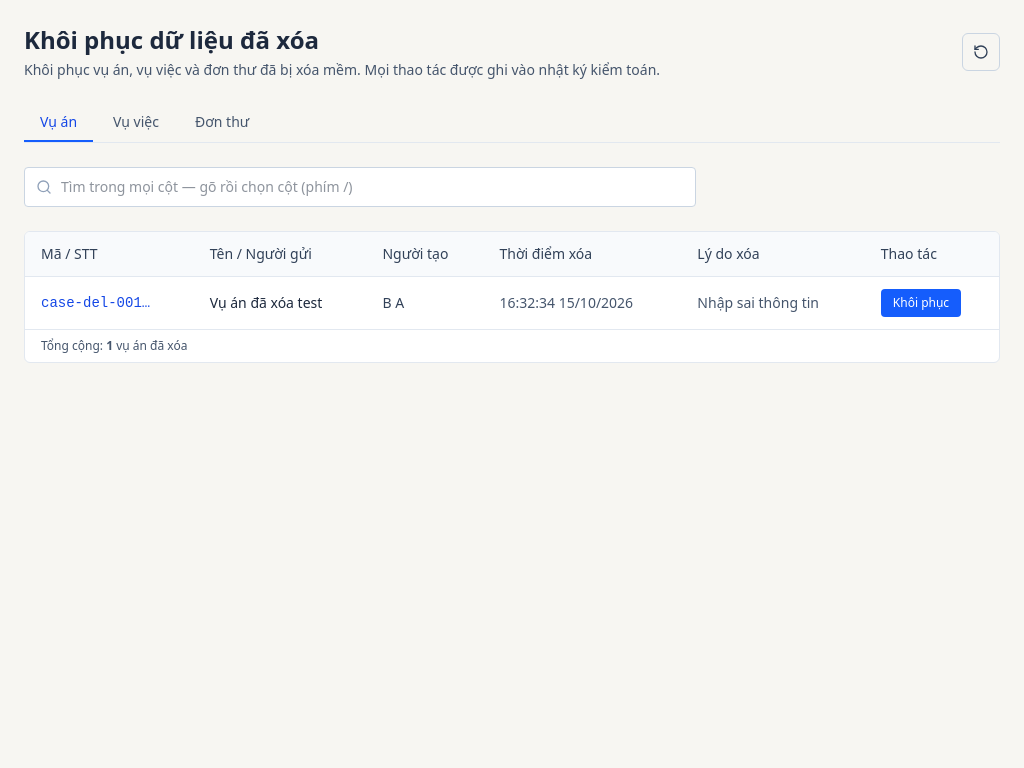
RestorePage v0.32.0.0 › FE-R3: restore success → row disappears + success banner
Expected: the text "Vụ án đã xóa test" is shown, [194,276,366,329]
Click the button with test id "btn-restore-case-del-001". click: (921, 303)
box: [881,289,961,317]
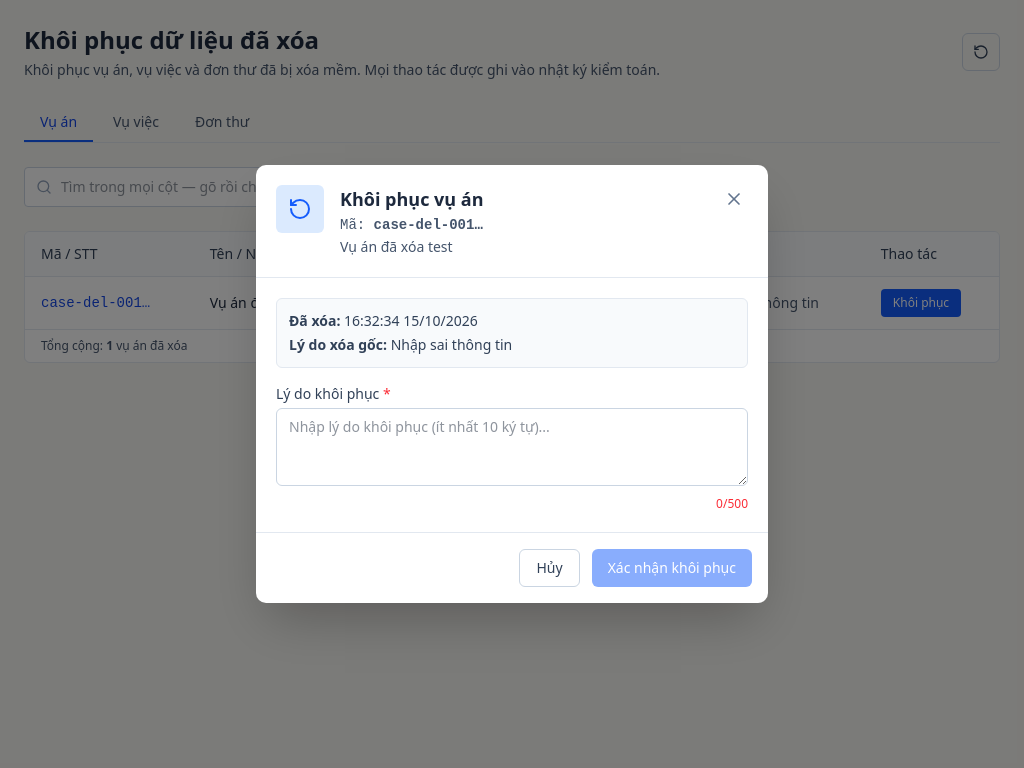
Expected: the dialog with test id "restore-modal" is shown
Type "Khôi phục theo yêu cầu thủ trưởng" into the text box with test id "restore-reason-input". click: (512, 447)
box: [276,408,748,486]
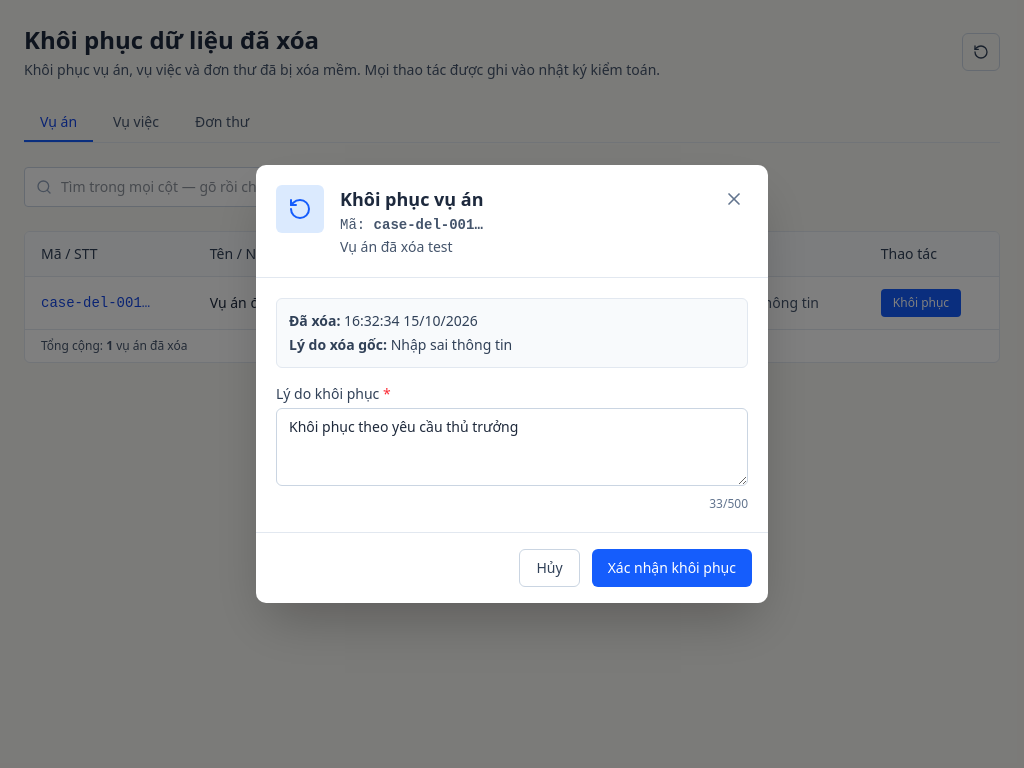
Click the button with test id "btn-confirm-restore". click: (672, 568)
box: [592,549,752,587]
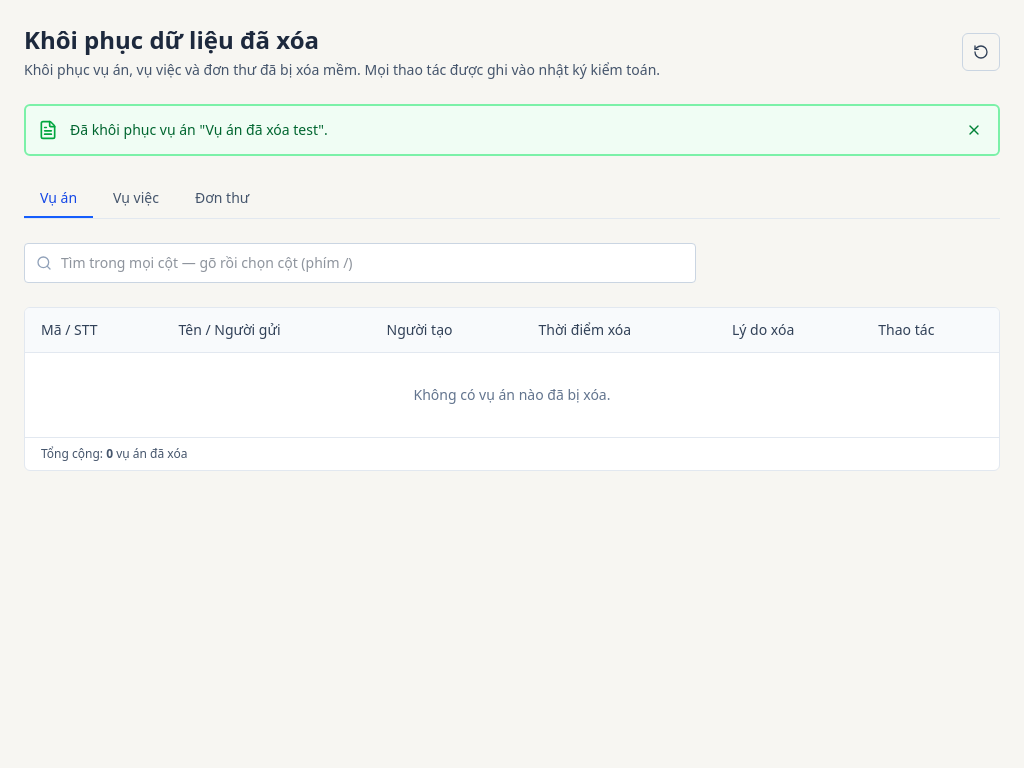
Expected: the dialog with test id "restore-modal" is gone
Expected: the message "Đã khôi phục vụ án \"Vụ án đã xóa test\"." is shown, [24,104,1000,156]
